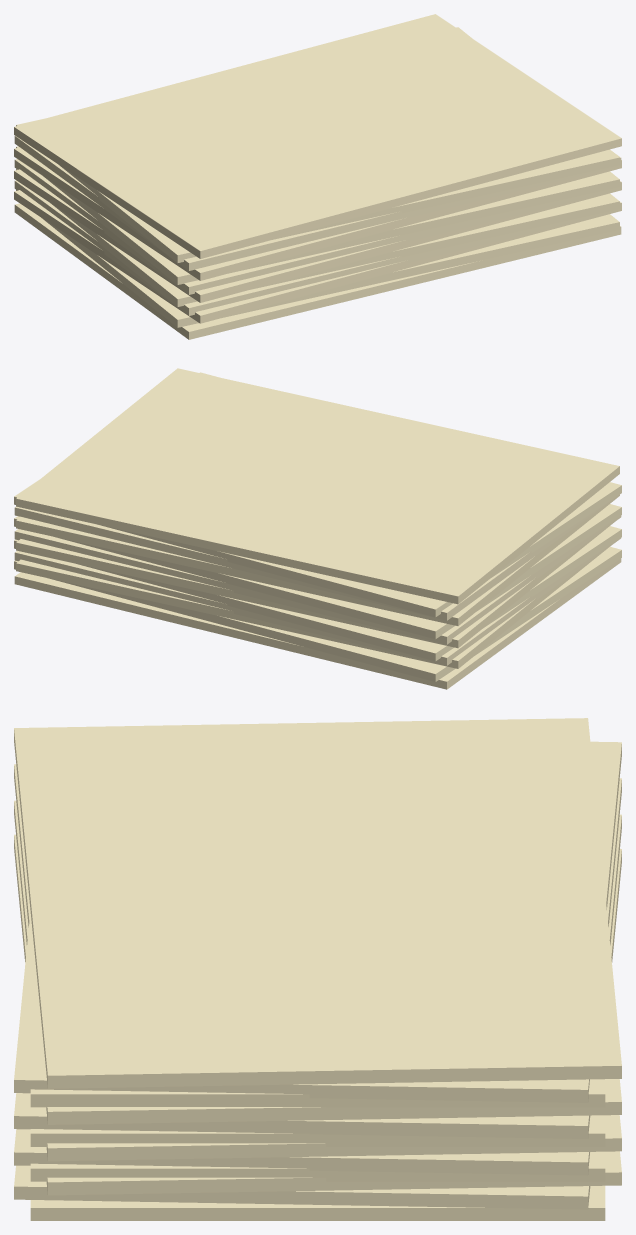
File: paper stack.fbx
3 views of the same model, one above another, from view 1: azimuth 30°, elevation 25°; view 2: azimuth 150°, elevation 25°; view 3: azimuth 270°, elevation 25° (orthographic). The views are drawn at different scales.
Parts seen in each view (by area): view 1: Cube.042; view 2: Cube.042; view 3: Cube.042.
Boxes of the visible parts, bbox=[...] form: Cube.042: bbox=[14, 14, 621, 339]; Cube.042: bbox=[14, 368, 621, 689]; Cube.042: bbox=[14, 718, 621, 1220].
Size of the model in its own units: 126 by 24.59 by 90.39.
